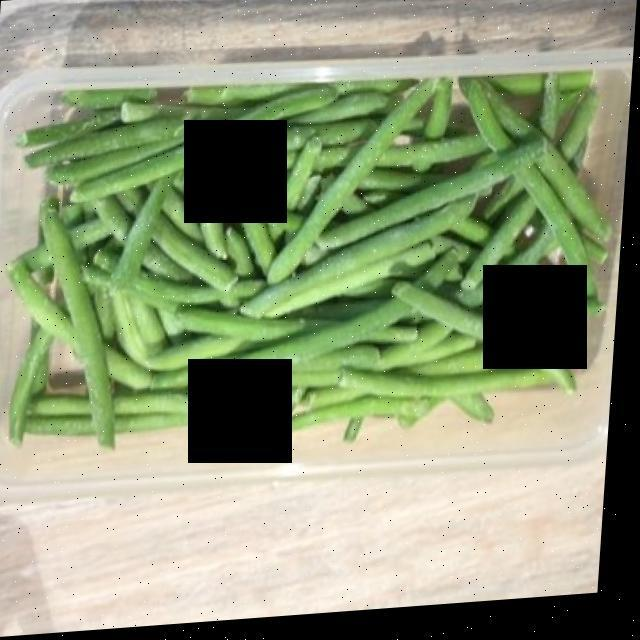green-bean: (18, 74, 616, 444)
